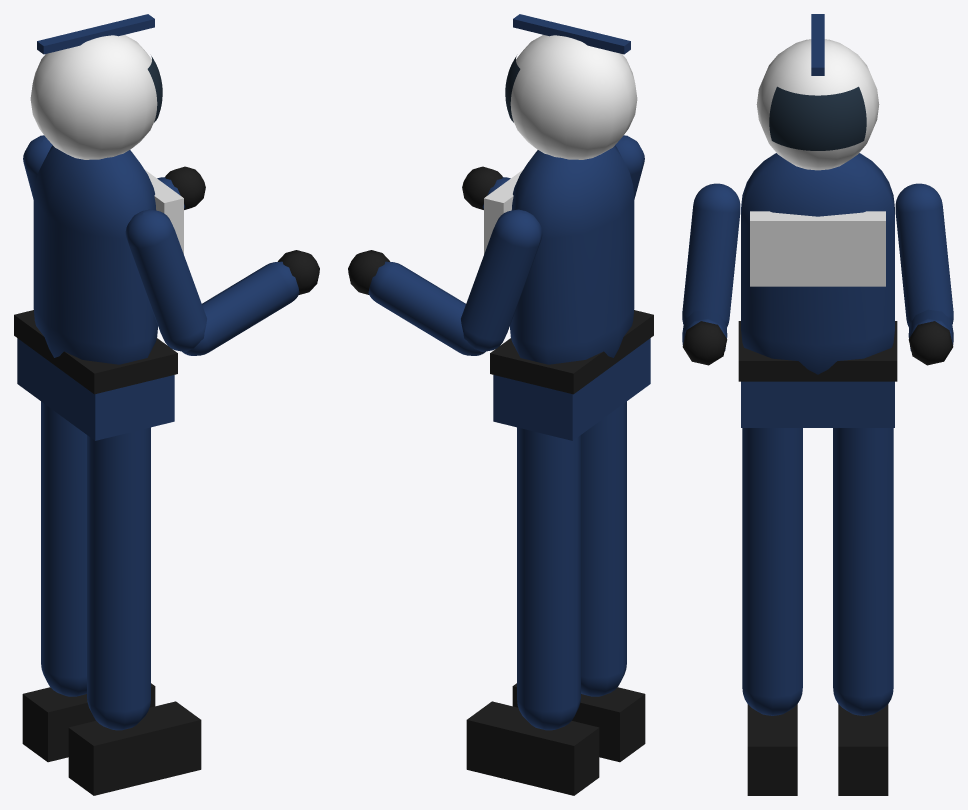
The model's file is pilot_cross.glb.
3 renders of one model, left to right at view 1: azimuth 30°, elevation 25°; view 2: azimuth 150°, elevation 25°; view 3: azimuth 270°, elevation 25°, orthographic.
Parts seen in each view (by area): view 1: pilot_cross, object 4, object 5, object 3; view 2: pilot_cross, object 2, object 3, object 5; view 3: pilot_cross, object 3, object 5, object 2, object 4.
Boxes of the visible parts, left/top/right/bottom form: pilot_cross: left=14, top=14, right=206, bottom=795; object 4: left=182, top=261, right=299, bottom=355; object 5: left=277, top=250, right=319, bottom=294; object 3: left=165, top=166, right=205, bottom=209; pilot_cross: left=461, top=14, right=653, bottom=795; object 2: left=368, top=261, right=485, bottom=355; object 3: left=348, top=250, right=390, bottom=294; object 5: left=462, top=166, right=502, bottom=209; pilot_cross: left=682, top=14, right=953, bottom=795; object 3: left=908, top=321, right=953, bottom=365; object 5: left=682, top=321, right=727, bottom=365; object 2: left=908, top=309, right=953, bottom=350; object 4: left=682, top=309, right=727, bottom=350.
Bounding box in the file's own units: 0.5587 × 1.76 × 0.5997.
